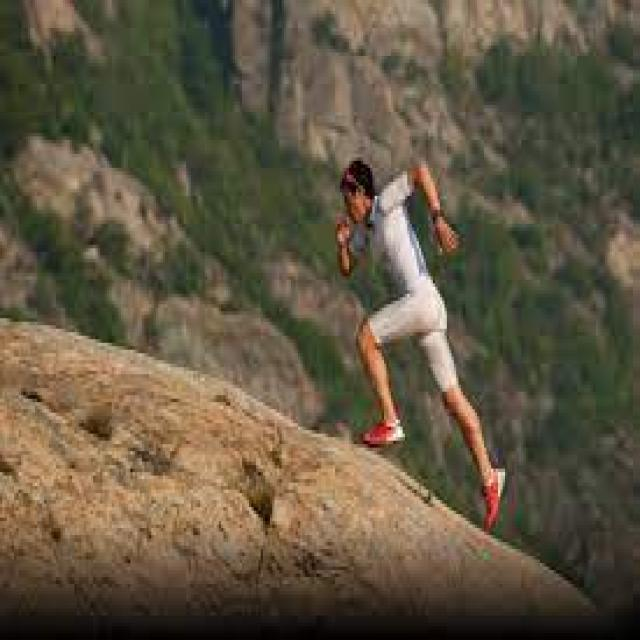running: (332, 154, 511, 537)
